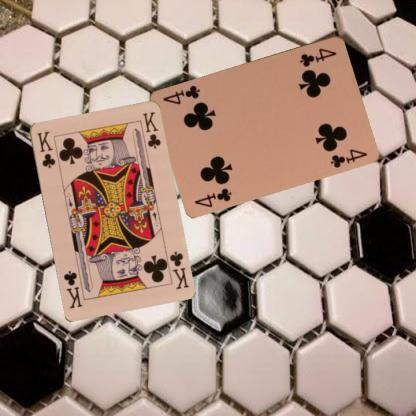4c: (297, 45, 338, 68), (192, 185, 233, 208)
Kc: (166, 248, 190, 290), (34, 128, 57, 170)
